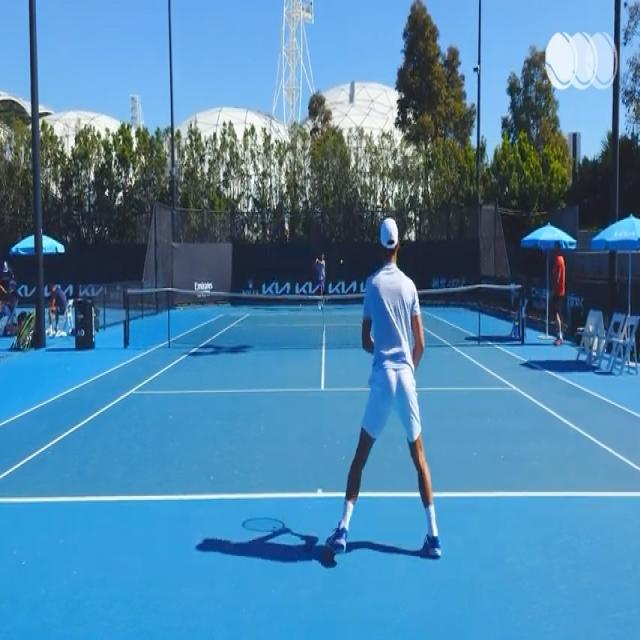ready-position: (341, 212, 448, 574)
